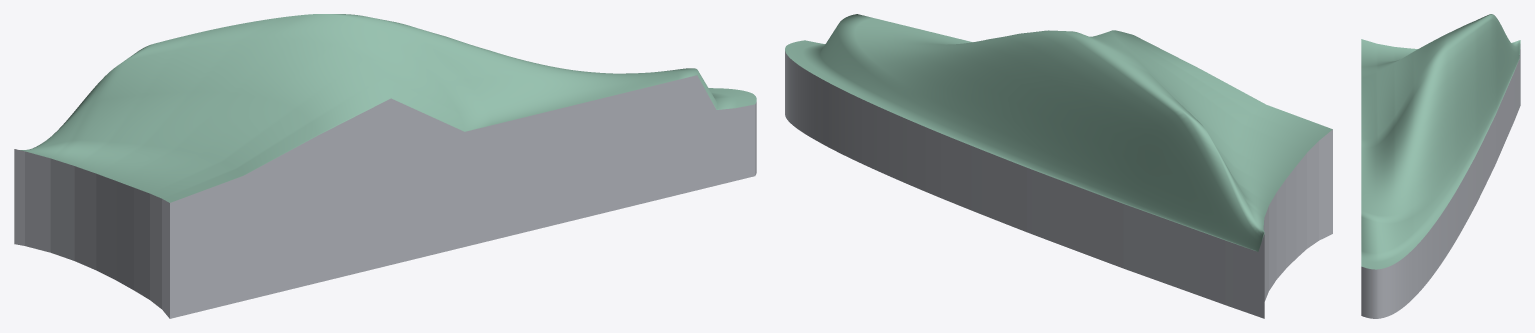
File: north-parts.glb
The picture shows the model from 3 angles, left to right: view 1: azimuth 30°, elevation 25°; view 2: azimuth 150°, elevation 25°; view 3: azimuth 270°, elevation 25°; orthographic projection. The views are drawn at different scales.
Parts seen in each view (by area): view 1: north/coastal-bank, north/top, north/connection-bank; view 2: north/top, north/coastal-bank; view 3: north/top, north/coastal-bank.
Part boxes in pixels (x1,y1,x2,y2): north/coastal-bank: [14, 75, 756, 318]; north/top: [20, 14, 756, 202]; north/connection-bank: [464, 80, 677, 246]; north/top: [785, 14, 1332, 251]; north/coastal-bank: [785, 51, 1332, 318]; north/top: [1361, 14, 1520, 269]; north/coastal-bank: [1361, 44, 1520, 318].
Bounding box in the file's own units: 8.19 × 2.59 × 2.58.
